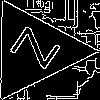Z: (9, 25, 71, 76)
